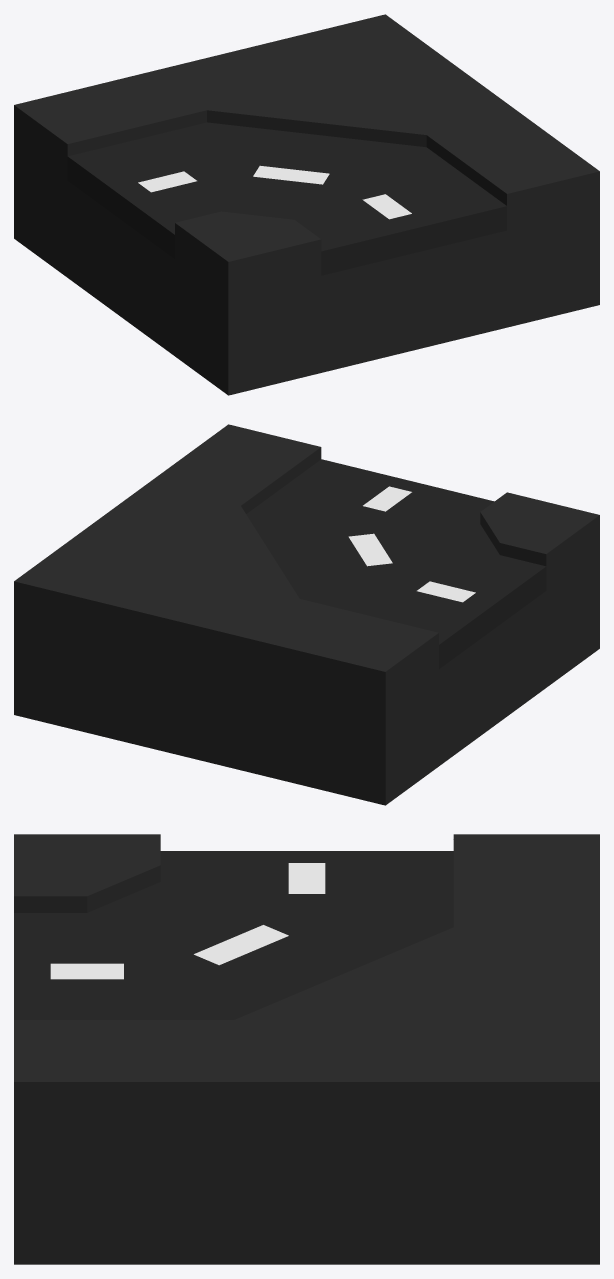
File: city-road.obj
3 views of the same model, one above another, from view 1: azimuth 30°, elevation 25°; view 2: azimuth 150°, elevation 25°; view 3: azimuth 270°, elevation 25° (orthographic). The views are drawn at different scales.
Visible parts, largest first — view 1: grass, road, plane; view 2: grass, road, plane; view 3: grass, road, plane.
Part boxes in pixels (x1,y1,x2,y2): grass: (14,14,599,395); road: (67,122,506,275); plane: (138,165,411,219); grass: (14,424,599,805); road: (246,459,546,668); plane: (348,486,475,602); grass: (14,834,599,1264); road: (14,851,453,1019); plane: (50,863,325,979).
Size of the model in its own units: 0.25 by 0.0859 by 0.25.
Materials: 1 (1 with a texture image).
